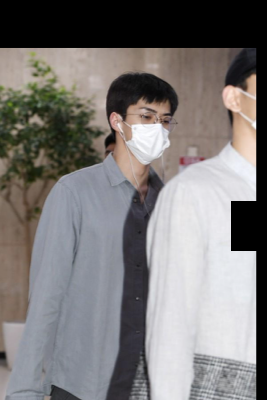with_mask: (121, 103, 169, 166)
